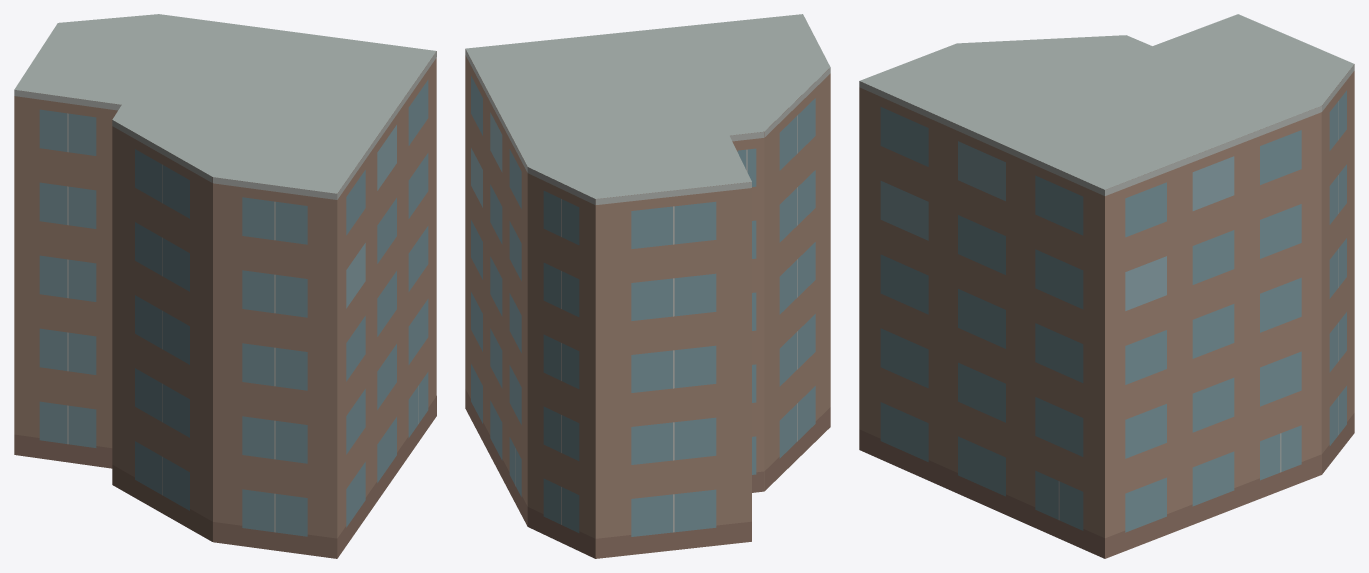
The model's file is survey-upis-32973579.glb.
The picture shows the model from 3 angles, left to right: view 1: azimuth 30°, elevation 25°; view 2: azimuth 150°, elevation 25°; view 3: azimuth 270°, elevation 25°; orthographic projection. The views are drawn at different scales.
Parts seen in each view (by area): view 1: survey-upis-32973579.tmp; view 2: survey-upis-32973579.tmp; view 3: survey-upis-32973579.tmp.
Boxes of the visible parts, box(x1,y1,x2,y2) form: survey-upis-32973579.tmp: box(14, 14, 436, 558); survey-upis-32973579.tmp: box(465, 14, 830, 558); survey-upis-32973579.tmp: box(859, 14, 1354, 558).
Bounding box in the file's own units: 14.52 × 14.2 × 17.28.
